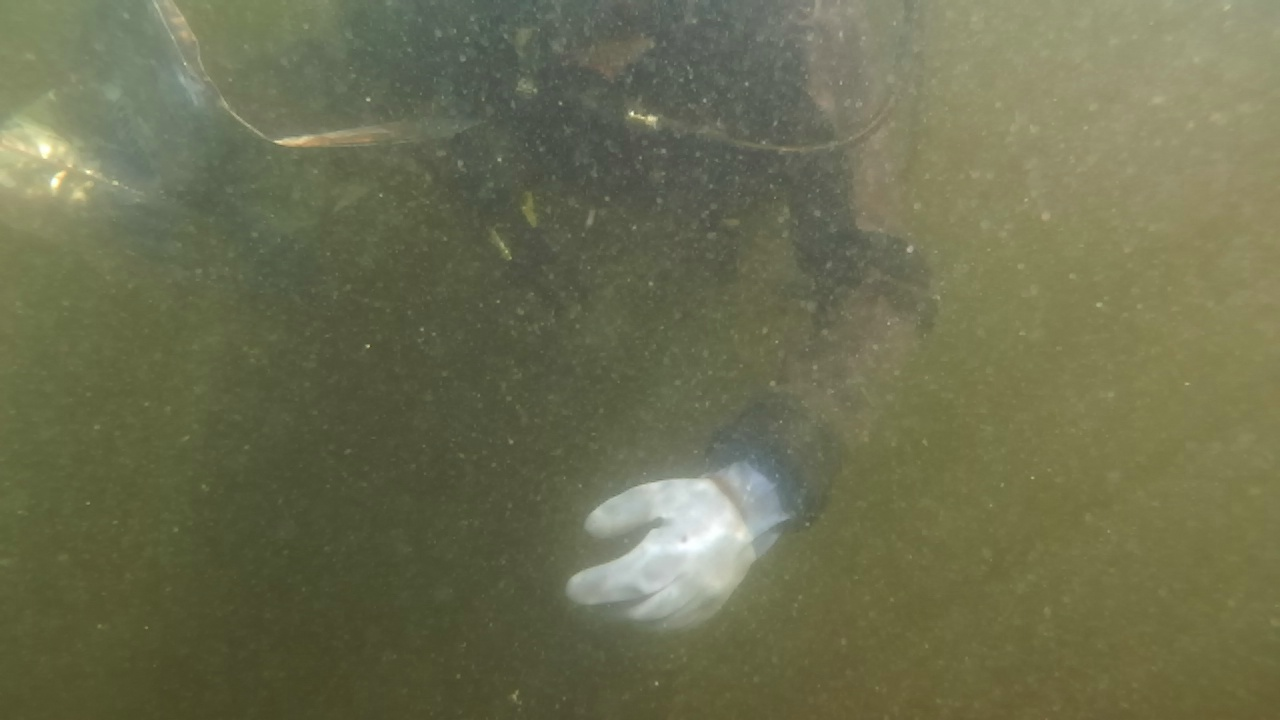Diver: (0, 4, 950, 648)
Hand: (562, 456, 794, 646)
